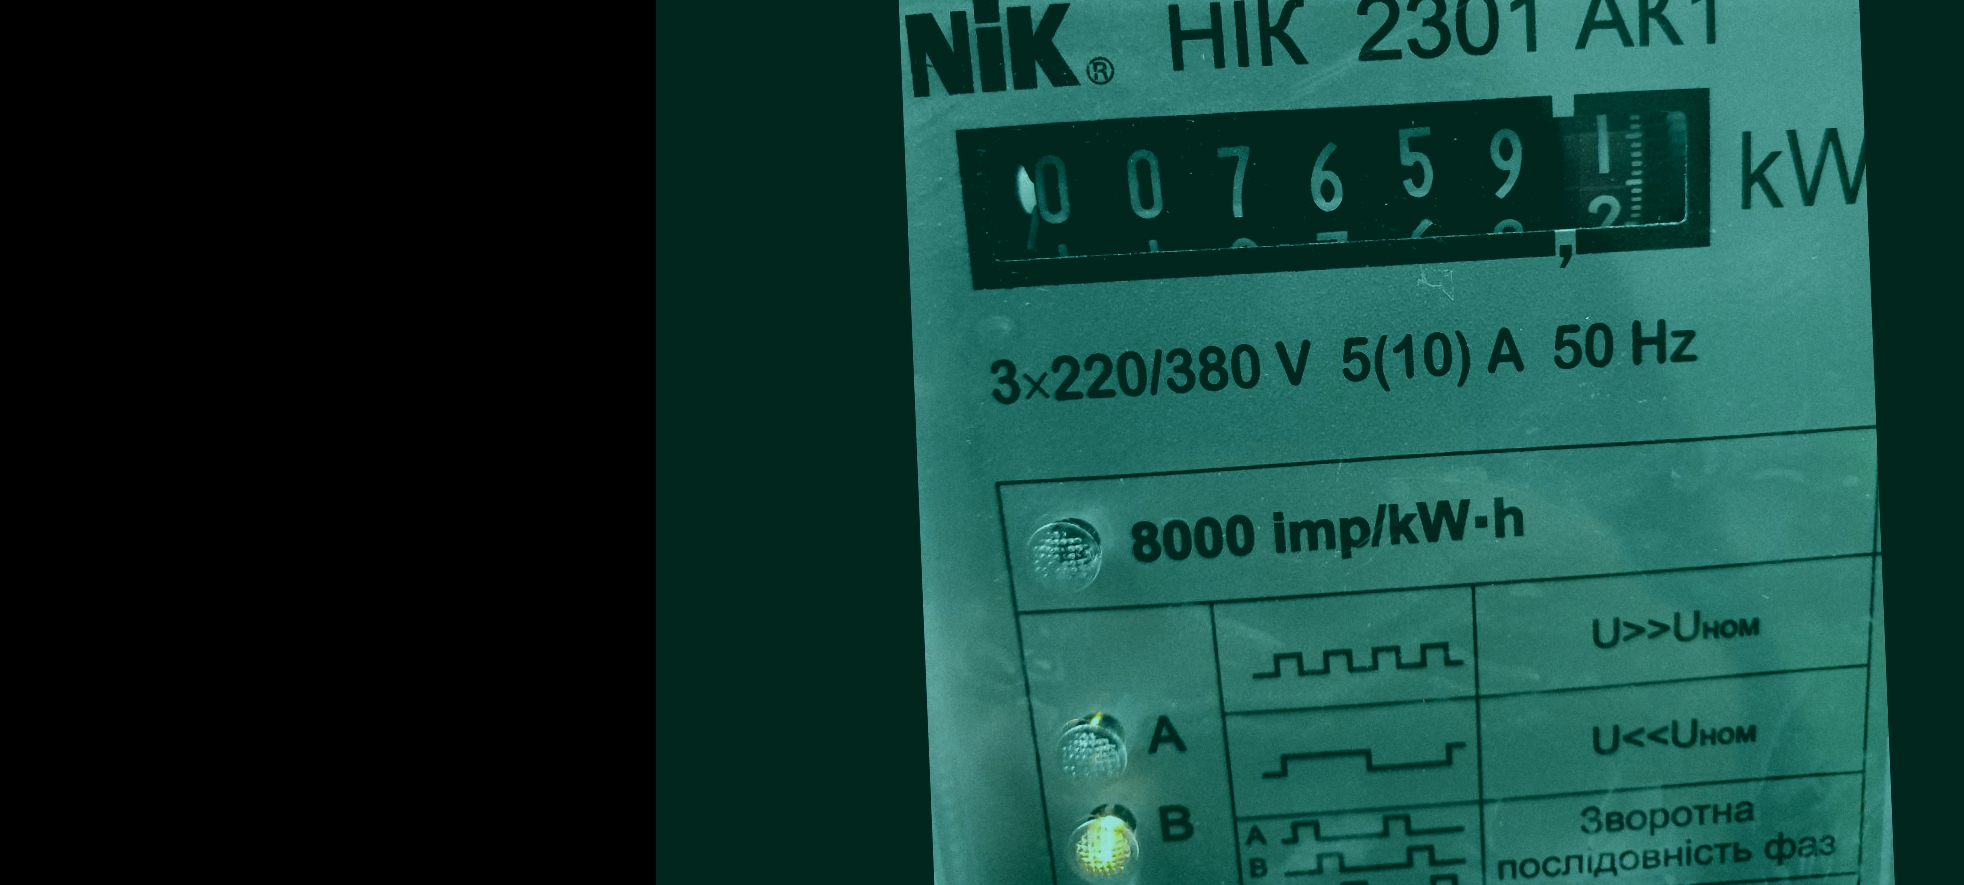0: (1114, 138, 1172, 227), (1026, 141, 1080, 234)
1: (1587, 105, 1625, 182)
5: (1392, 119, 1440, 202)
6: (1299, 131, 1353, 217)
7: (1212, 136, 1258, 224)
9: (1484, 118, 1531, 208)
screen: (936, 65, 1739, 310)
